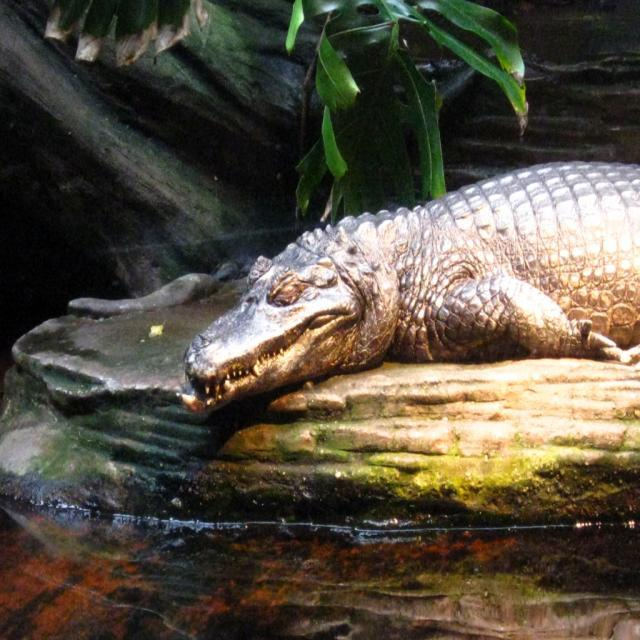crocodile: (174, 157, 639, 414)
